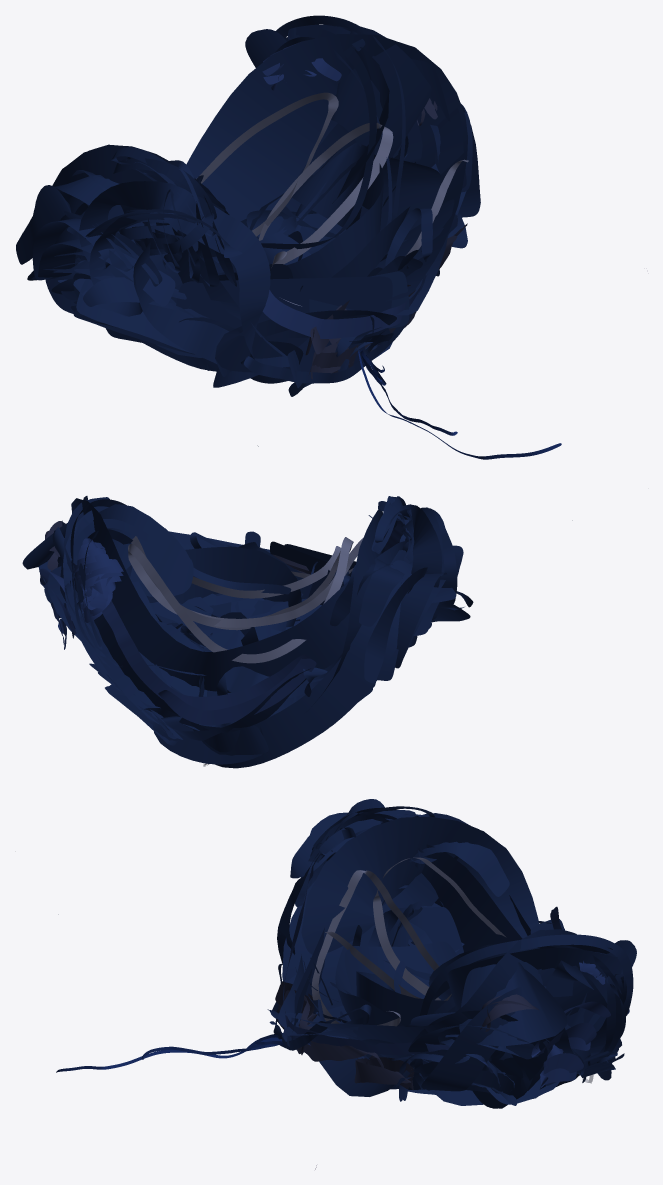
3 views of the same model, one above another, from view 1: azimuth 30°, elevation 25°; view 2: azimuth 150°, elevation 25°; view 3: azimuth 270°, elevation 25° (orthographic). The views are drawn at different scales.
Parts seen in each view (by area): view 1: brush_Marker_g0_b0_0, brush_Marker_g0_b1_3; view 2: brush_Marker_g0_b0_0, brush_Marker_g0_b1_3; view 3: brush_Marker_g0_b0_0, brush_Marker_g0_b1_3.
Boxes of the visible parts, x1,y1,x2,y2 form: brush_Marker_g0_b0_0: (16,15,561,459); brush_Marker_g0_b1_3: (305,98,467,385); brush_Marker_g0_b0_0: (22,496,572,768); brush_Marker_g0_b1_3: (45,521,311,574); brush_Marker_g0_b0_0: (56,799,636,1108); brush_Marker_g0_b1_3: (246,981,538,1090).
Bounding box in the file's own units: 1.38 × 0.6274 × 1.56.
Materials: 2 (1 with a texture image).
